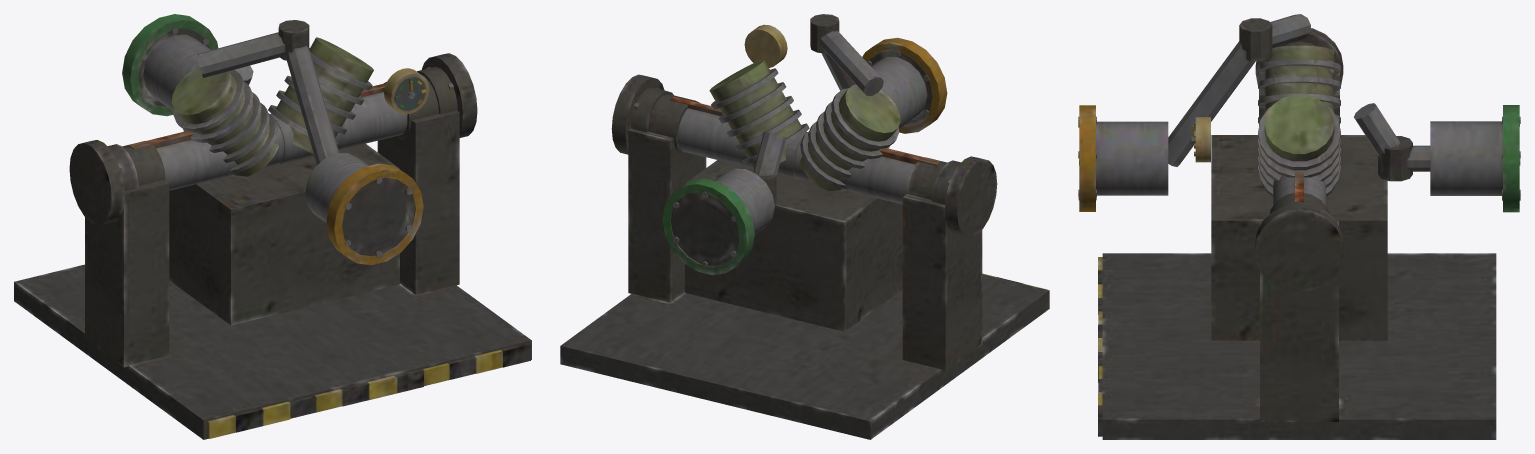
File: feCompressor.glb
3 views of the same model, side by side, from view 1: azimuth 30°, elevation 25°; view 2: azimuth 150°, elevation 25°; view 3: azimuth 270°, elevation 25° (orthographic). The views are drawn at different scales.
Parts seen in each view (by area): view 1: feCompressor_Base, FeSpin_DriveShaft; view 2: feCompressor_Base, FeSpin_DriveShaft; view 3: feCompressor_Base, FeSpin_DriveShaft.
Boxes of the visible parts, bbox=[...] form: feCompressor_Base: bbox=[14, 14, 531, 439]; FeSpin_DriveShaft: bbox=[69, 53, 477, 225]; feCompressor_Base: bbox=[560, 14, 1049, 439]; FeSpin_DriveShaft: bbox=[611, 74, 997, 237]; feCompressor_Base: bbox=[1078, 14, 1520, 439]; FeSpin_DriveShaft: bbox=[1254, 28, 1344, 291].
Size of the model in its own units: 1 by 0.8381 by 1.01.
Materials: 1 (1 with a texture image).
